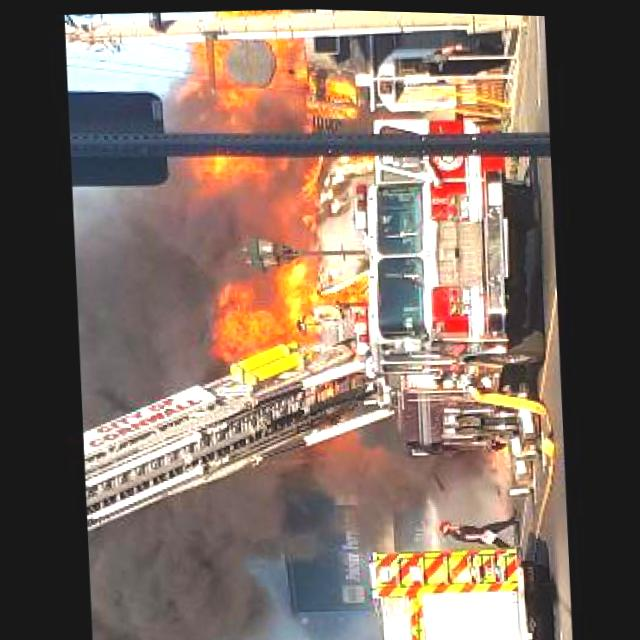helmet: (174, 12, 369, 388)
no_helmet: (62, 72, 225, 428), (85, 450, 296, 640), (289, 433, 509, 543)
